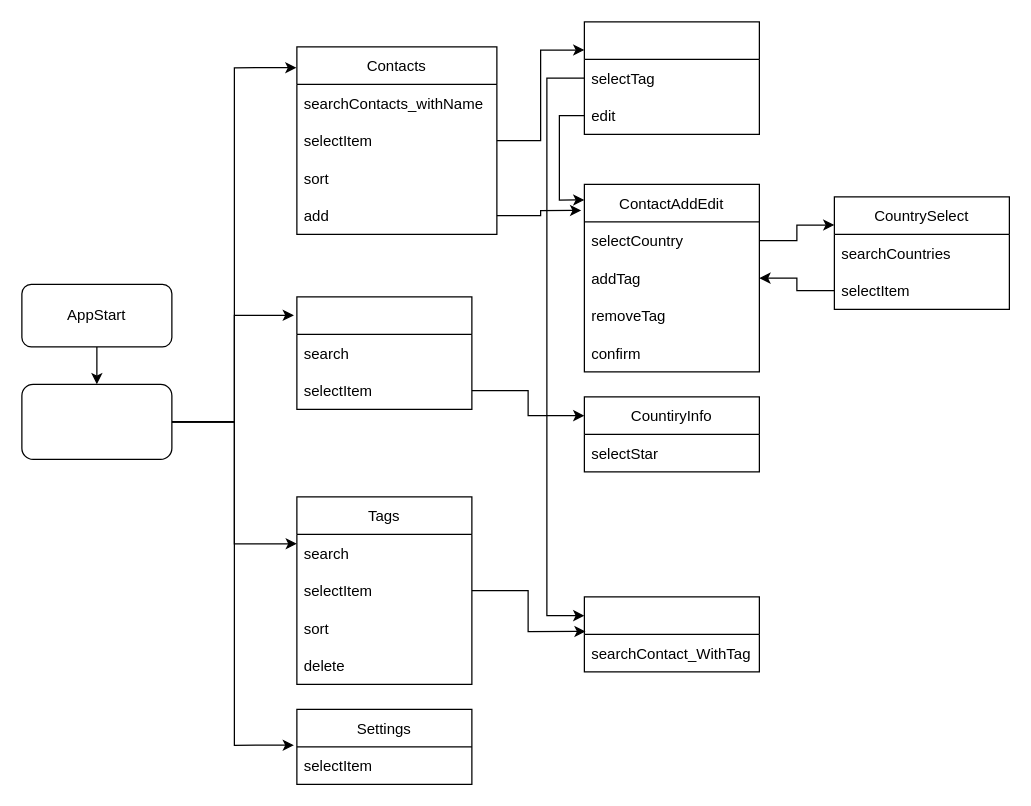
The diagram is 1031 pixels wide and 806 high, and some of its shapes have lost their labels. Here are the shapes that lost their labels. From the top down, the box of each, then its label:
(583, 21, 759, 134): ContactInfo
(296, 296, 472, 409): Countries
(21, 383, 172, 459): Main TabBar
(583, 596, 759, 672): TagInfo
